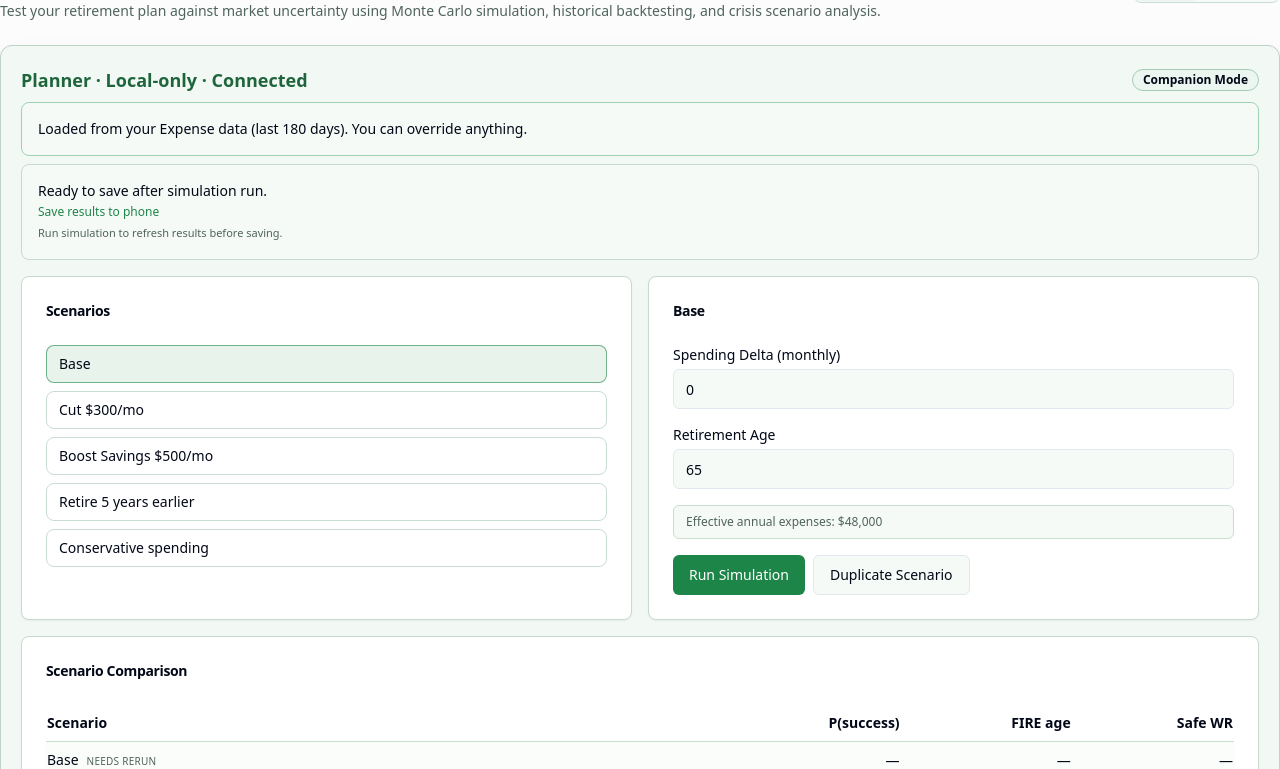
Test case: StressTestPage companion orchestration › shows error message when runActionImpactAnalysis rejects
Click the button "Run Simulation" at x=739, y=575, box x1=673 y1=555 x2=805 y2=595
(page scrolled)
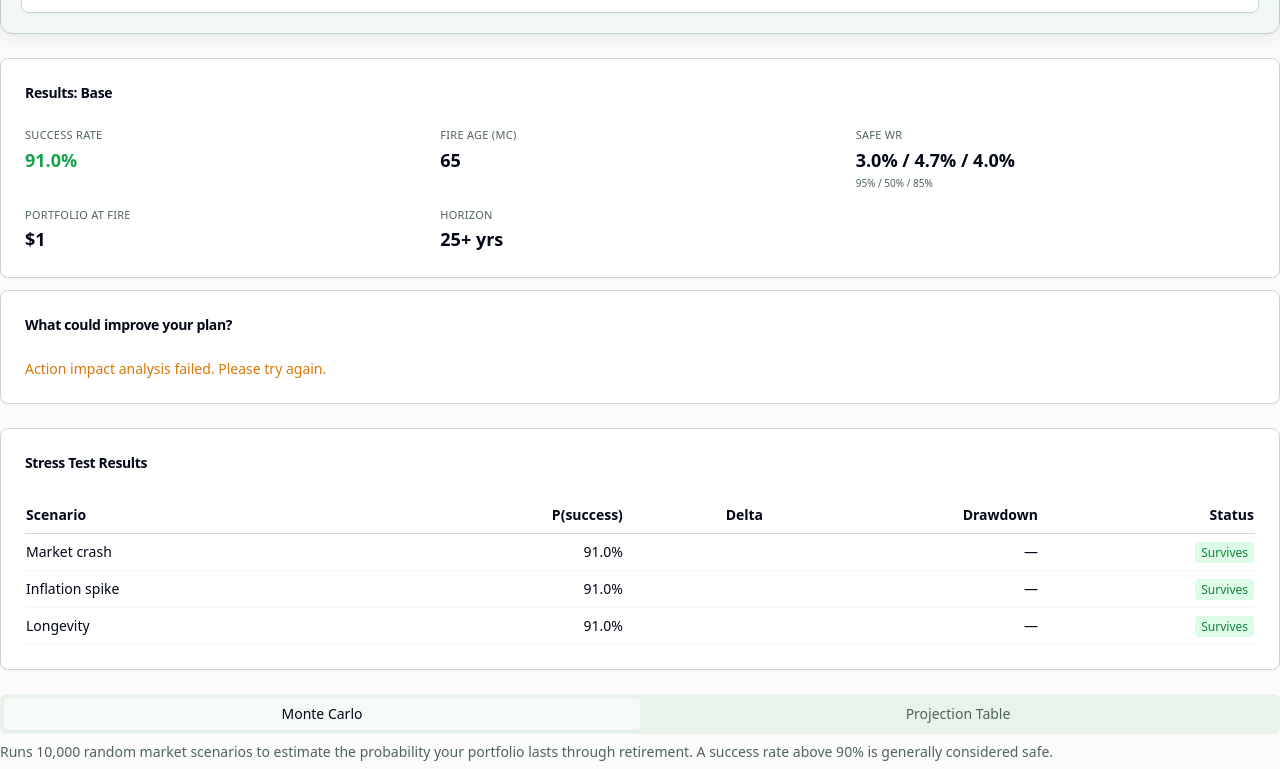
expect the text "Action impact analysis failed. Please try again." is shown: met, box x1=25 y1=359 x2=326 y2=378
